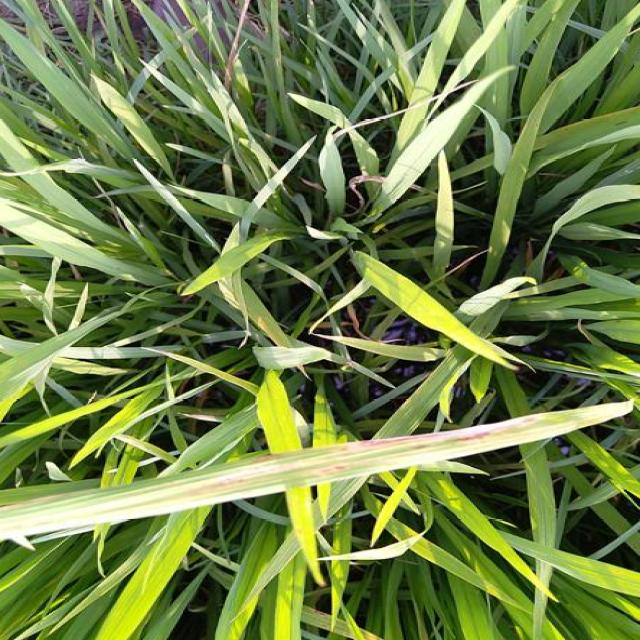Leaf Streak: (0, 402, 634, 545)
